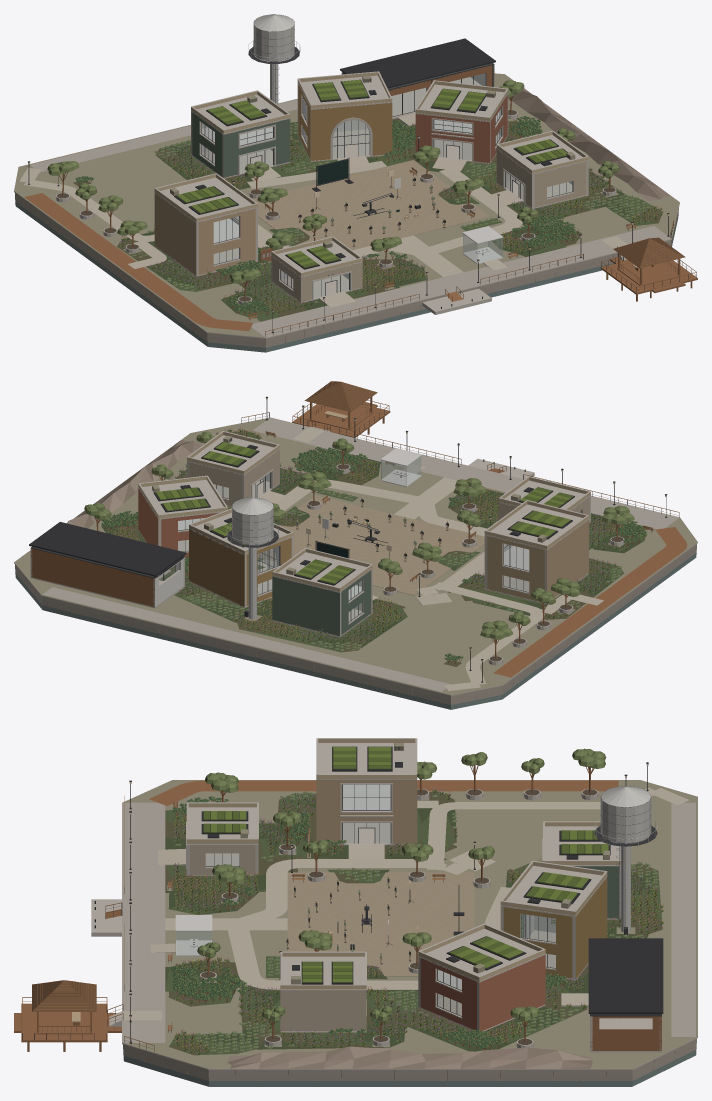
File: made-campus.glb
The picture shows the model from 3 angles, top to bottom: view 1: azimuth 30°, elevation 25°; view 2: azimuth 150°, elevation 25°; view 3: azimuth 270°, elevation 25°; orthographic projection. The views are drawn at different scales.
Visible parts, largest first — view 1: Made_CampusGroundTop, Made_GalleryGardenSoil, Made_FilmPlazaPaving, Made_Platform95x80_SeawallCoping, SoDA_Architecture, GitCue_Architecture, Made_Promenade, Made_GardenFlowerDrifts, Agentex_Architecture, Mesa_Architecture, Made_Hall_Architecture, csDNA_Architecture (+31 smaller); view 2: Made_CampusGroundTop, Made_GalleryGardenSoil, Made_Platform95x80_SeawallCoping, Made_Hall_Architecture, Made_FilmPlazaPaving, SoDA_Architecture, Agentex_Architecture, Made_GardenFlowerDrifts, GitCue_Architecture, Made_Promenade, Made_NorthServiceStrip, csDNA_Architecture (+29 smaller); view 3: Made_CampusGroundTop, Made_GalleryGardenSoil, Made_FilmPlazaPaving, Made_Platform95x80_SeawallCoping, Made_Promenade, SoDA_Architecture, Made_GardenFlowerDrifts, Mesa_Architecture, Made_Hall_Architecture, GitCue_Architecture, Made_EastFacetedRockBluff, csDNA_Architecture (+36 smaller).
Part boxes in pixels (left/top/right/bottom): Made_CampusGroundTop: left=14, top=73, right=679, bottom=337; Made_GalleryGardenSoil: left=73, top=118, right=662, bottom=321; Made_FilmPlazaPaving: left=252, top=160, right=490, bottom=250; Made_Platform95x80_SeawallCoping: left=14, top=191, right=679, bottom=352; SoDA_Architecture: left=154, top=173, right=257, bottom=276; GitCue_Architecture: left=297, top=71, right=392, bottom=161; Made_Promenade: left=251, top=226, right=671, bottom=337; Made_GardenFlowerDrifts: left=119, top=118, right=663, bottom=313; Agentex_Architecture: left=191, top=90, right=290, bottom=178; Mesa_Architecture: left=415, top=80, right=508, bottom=163; Made_Hall_Architecture: left=340, top=38, right=495, bottom=118; csDNA_Architecture: left=496, top=130, right=588, bottom=208; Made_CampusGroundTop: left=14, top=418, right=697, bottom=694; Made_GalleryGardenSoil: left=101, top=430, right=648, bottom=666; Made_Platform95x80_SeawallCoping: left=14, top=542, right=697, bottom=709; Made_Hall_Architecture: left=29, top=522, right=186, bottom=608; Made_FilmPlazaPaving: left=257, top=495, right=484, bottom=595; SoDA_Architecture: left=484, top=500, right=588, bottom=604; Agentex_Architecture: left=272, top=548, right=372, bottom=637; Made_GardenFlowerDrifts: left=107, top=427, right=629, bottom=644; GitCue_Architecture: left=189, top=508, right=293, bottom=607; Made_Promenade: left=253, top=417, right=679, bottom=529; Made_NorthServiceStrip: left=42, top=587, right=451, bottom=691; csDNA_Architecture: left=187, top=431, right=279, bottom=506; Made_CampusGroundTop: left=122, top=780, right=697, bottom=1068; Made_GalleryGardenSoil: left=165, top=792, right=662, bottom=1055; Made_FilmPlazaPaving: left=287, top=872, right=474, bottom=976; Made_Platform95x80_SeawallCoping: left=122, top=1037, right=697, bottom=1086; Made_Promenade: left=122, top=802, right=165, bottom=1042; SoDA_Architecture: left=316, top=738, right=417, bottom=845; Made_GardenFlowerDrifts: left=173, top=787, right=663, bottom=1054; Mesa_Architecture: left=418, top=923, right=545, bottom=1031; Made_Hall_Architecture: left=588, top=938, right=663, bottom=1052; GitCue_Architecture: left=500, top=860, right=607, bottom=980; Made_EastFacetedRockBluff: left=227, top=1046, right=592, bottom=1068; csDNA_Architecture: left=280, top=951, right=366, bottom=1032.
Bounding box in the file's own units: 95 × 25 × 95.
